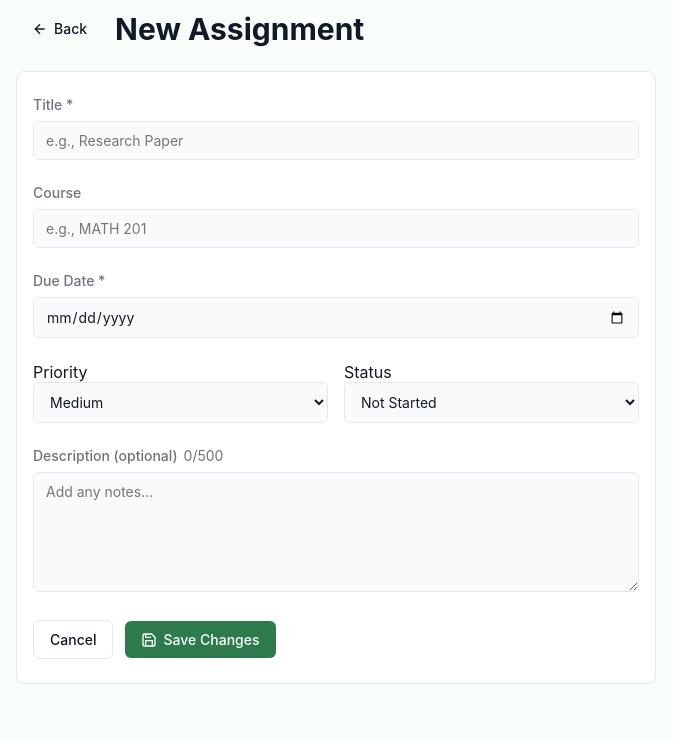
AssignmentFormPage — new assignment › shows field-level errors when validation returns errors
The width and height of the screenshot is (673, 741).
// provide minimal valid inputs so the form attempts to submit and server errors are returned
Type "x" into the field labelled "Title *" at x=336, y=140, box [33,121,639,160]
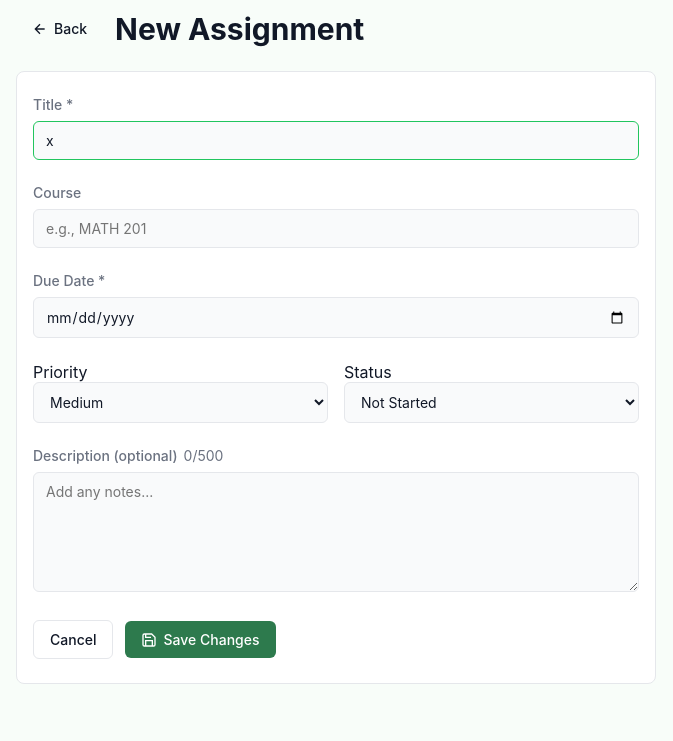
Type "2025-12-01" into the date field labelled "Due Date *" at x=336, y=318, box [33,297,639,338]
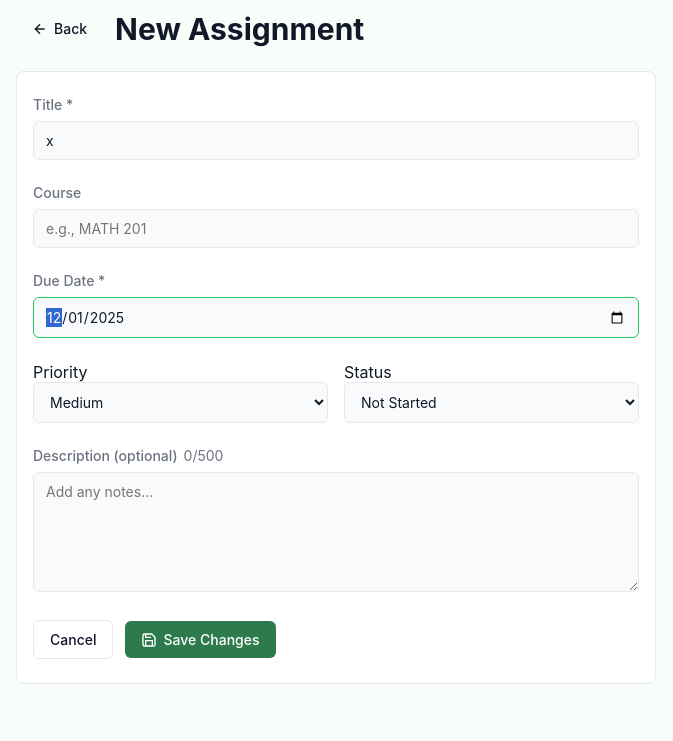
Click the button "Save Changes" at x=200, y=640, box [126,621,276,658]
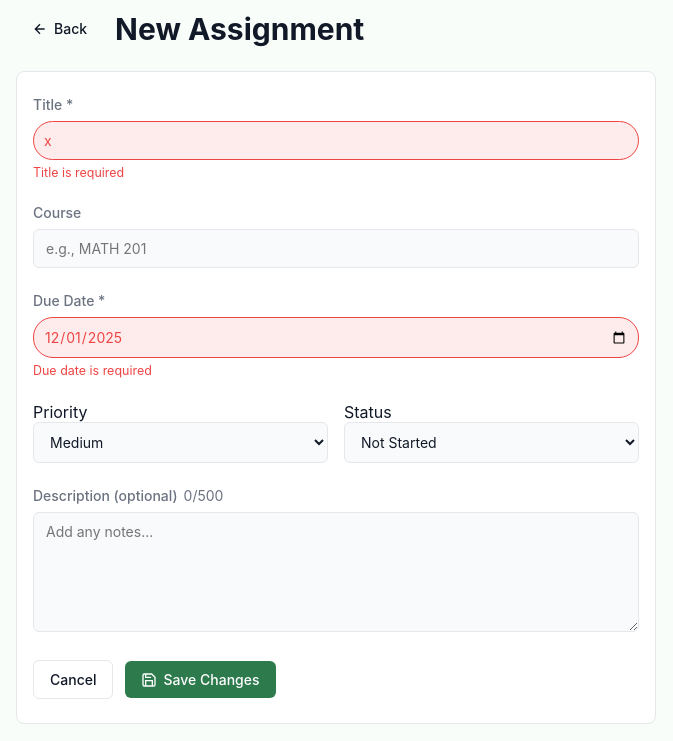
Expected: the text "Title is required" is shown, [33,165,124,180]
Expected: the text "Due date is required" is shown, [33,363,152,378]
